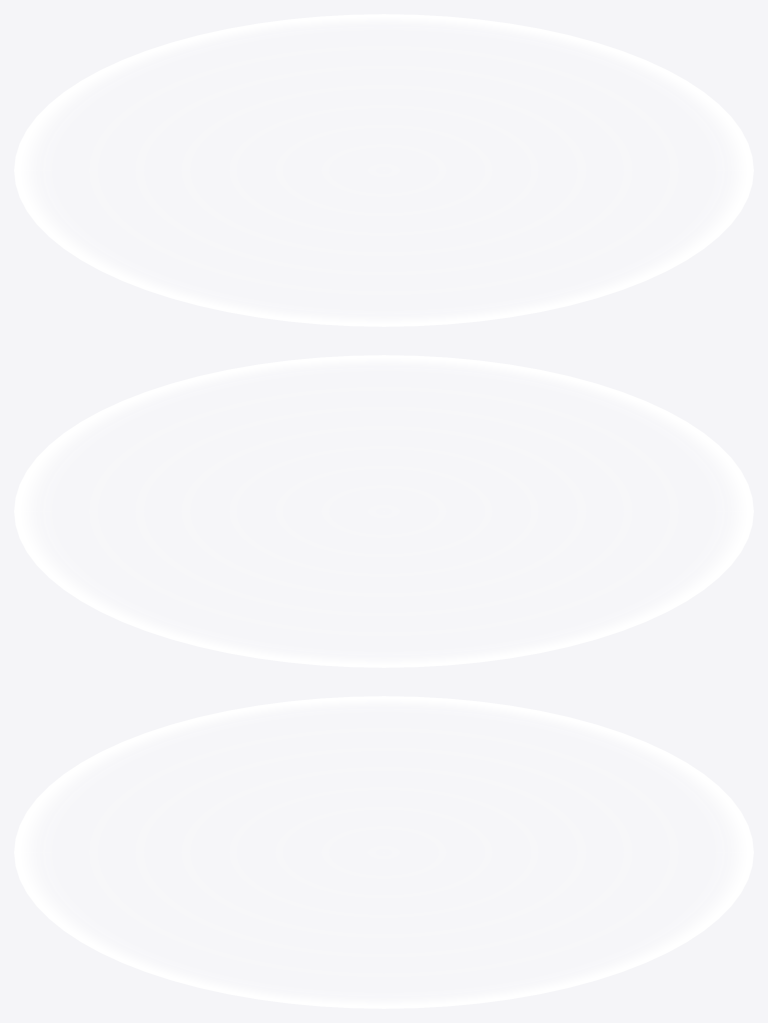
Rendered from disc_ivory.glb.
3 renders of one model, top to bottom at view 1: azimuth 30°, elevation 25°; view 2: azimuth 150°, elevation 25°; view 3: azimuth 270°, elevation 25°, orthographic.
Parts seen in each view (by area): view 1: disc; view 2: disc; view 3: disc.
Part boxes in pixels (x1,y1,x2,y2): disc: [14, 14, 753, 326]; disc: [14, 355, 753, 667]; disc: [14, 696, 753, 1008].
Bounding box in the file's own units: 2 × 0 × 2.
Materials: 1 (1 with a texture image).
